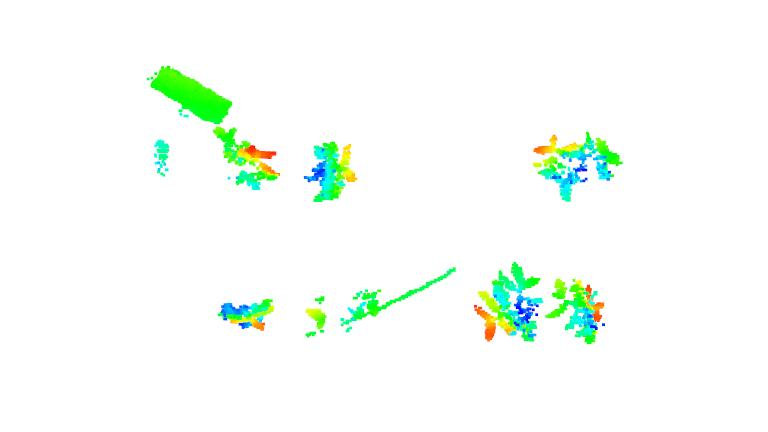chickpea: (532, 132, 624, 200), (471, 263, 545, 344), (211, 125, 283, 189), (545, 277, 606, 343), (302, 288, 380, 336), (301, 142, 360, 203), (215, 296, 274, 333), (151, 137, 171, 182)
